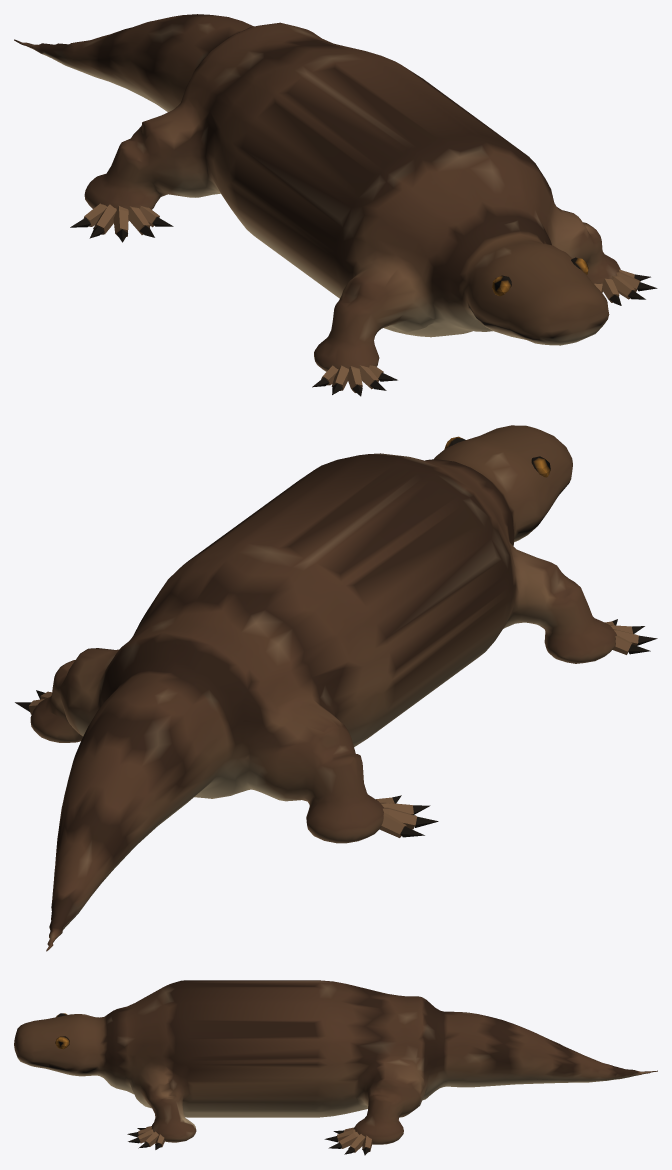
Rendered from Desmatodon.fbx.
3 views of the same model, one above another, from view 1: azimuth 30°, elevation 25°; view 2: azimuth 150°, elevation 25°; view 3: azimuth 270°, elevation 25° (orthographic). The views are drawn at different scales.
Parts seen in each view (by area): view 1: Desmatodon; view 2: Desmatodon; view 3: Desmatodon.
Boxes of the visible parts, <box> form: Desmatodon: <box>14,14,657,396</box>; Desmatodon: <box>15,425,657,951</box>; Desmatodon: <box>14,980,657,1155</box>.
Bounding box in the file's own units: 0.4901 × 0.2201 × 1.06.
